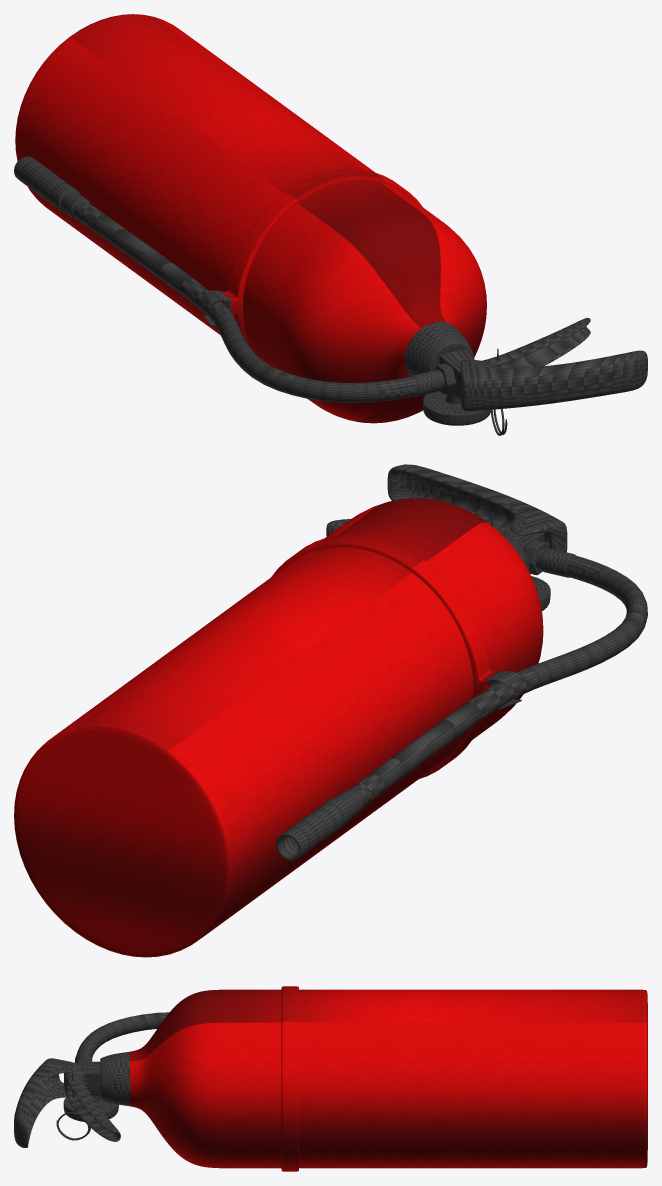
3 views of the same model, one above another, from view 1: azimuth 30°, elevation 25°; view 2: azimuth 150°, elevation 25°; view 3: azimuth 270°, elevation 25° (orthographic). The views are drawn at different scales.
Visible parts, largest first — view 1: ogneushitl_n, black; view 2: ogneushitl_n, black; view 3: ogneushitl_n, black.
Part boxes in pixels (x1=…): ogneushitl_n: x1=15, y1=14, x2=486, y2=423; black: x1=14, y1=156, x2=647, y2=435; ogneushitl_n: x1=14, y1=498, x2=543, y2=957; black: x1=276, y1=464, x2=647, y2=860; ogneushitl_n: x1=130, y1=986, x2=647, y2=1171; black: x1=14, y1=1012, x2=169, y2=1147.
Bounding box in the file's own units: 25.39 × 16.54 × 56.69.
2 materials, 2 textured.
